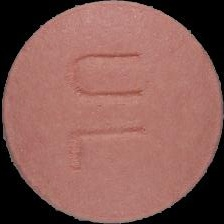29300-126: (0, 0, 224, 224)
